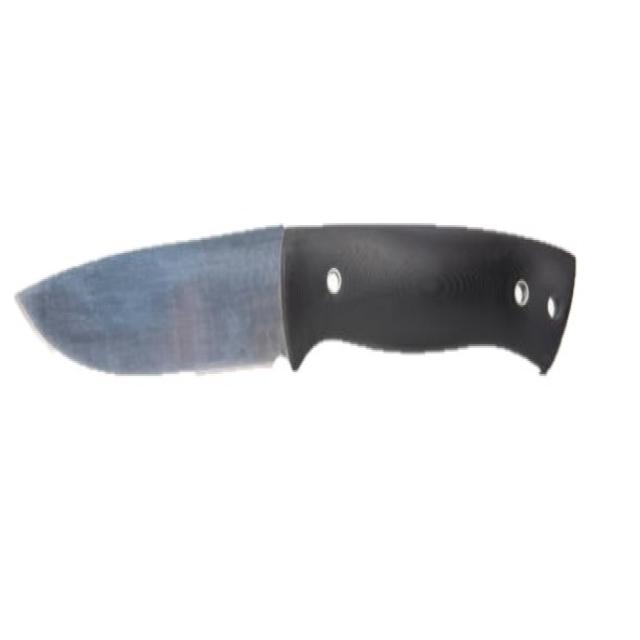knife: (15, 222, 584, 383)
